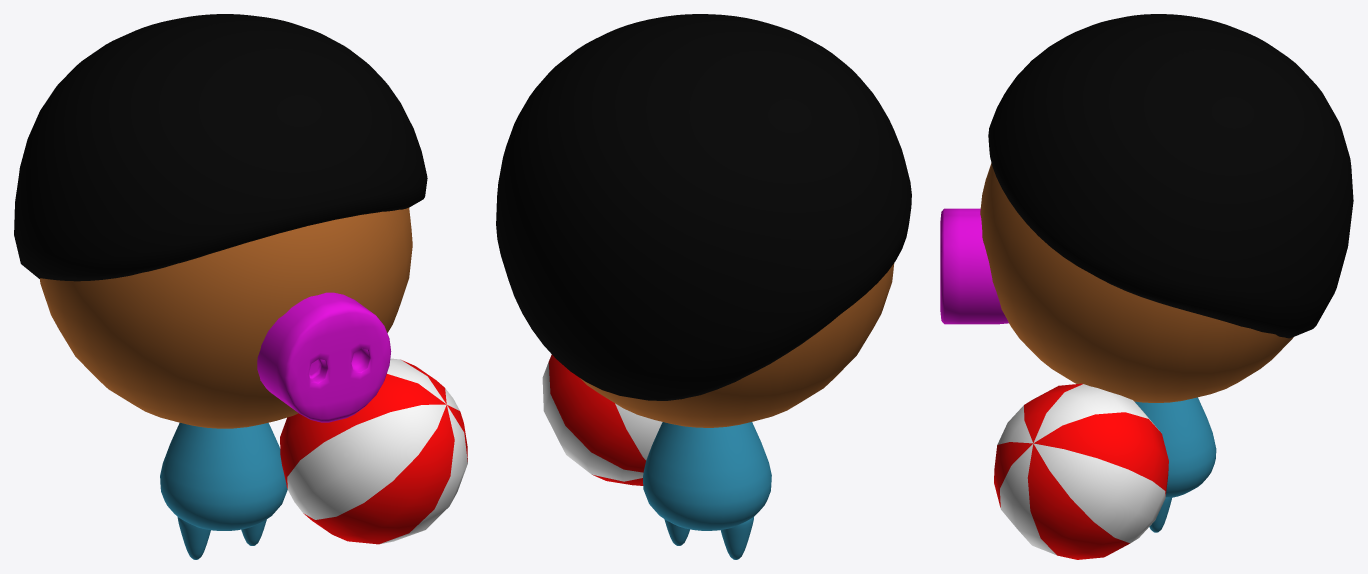
Rendered from Model_Child.FBX.
The picture shows the model from 3 angles, left to right: view 1: azimuth 30°, elevation 25°; view 2: azimuth 150°, elevation 25°; view 3: azimuth 270°, elevation 25°; orthographic projection. The views are drawn at different scales.
Parts seen in each view (by area): view 1: Child_Pelo, Child_Cabeza, Sphere001, Child_ModePig, Child_Cuerpo, Child_Pier_Der; view 2: Child_Pelo, Child_Cuerpo, Child_Cabeza, Sphere001, Child_Pier_Der; view 3: Child_Pelo, Child_Cabeza, Sphere001, Child_ModePig, Child_Cuerpo.
Part boxes in pixels (bbox=[...]): Child_Pelo: bbox=[14, 14, 427, 281]; Child_Cabeza: bbox=[40, 207, 412, 428]; Sphere001: bbox=[280, 358, 467, 544]; Child_ModePig: bbox=[257, 292, 391, 422]; Child_Cuerpo: bbox=[160, 422, 287, 530]; Child_Pier_Der: bbox=[177, 517, 210, 559]; Child_Pelo: bbox=[496, 14, 911, 400]; Child_Cuerpo: bbox=[643, 422, 771, 530]; Child_Cabeza: bbox=[580, 263, 894, 427]; Sphere001: bbox=[542, 354, 662, 485]; Child_Pier_Der: bbox=[720, 517, 753, 559]; Child_Pelo: bbox=[988, 14, 1353, 338]; Child_Cabeza: bbox=[980, 163, 1293, 402]; Sphere001: bbox=[994, 383, 1168, 559]; Child_ModePig: bbox=[940, 208, 1008, 324]; Child_Cuerpo: bbox=[1135, 397, 1216, 497].
Size of the model in its own units: 70.39 by 92.31 by 71.65.
